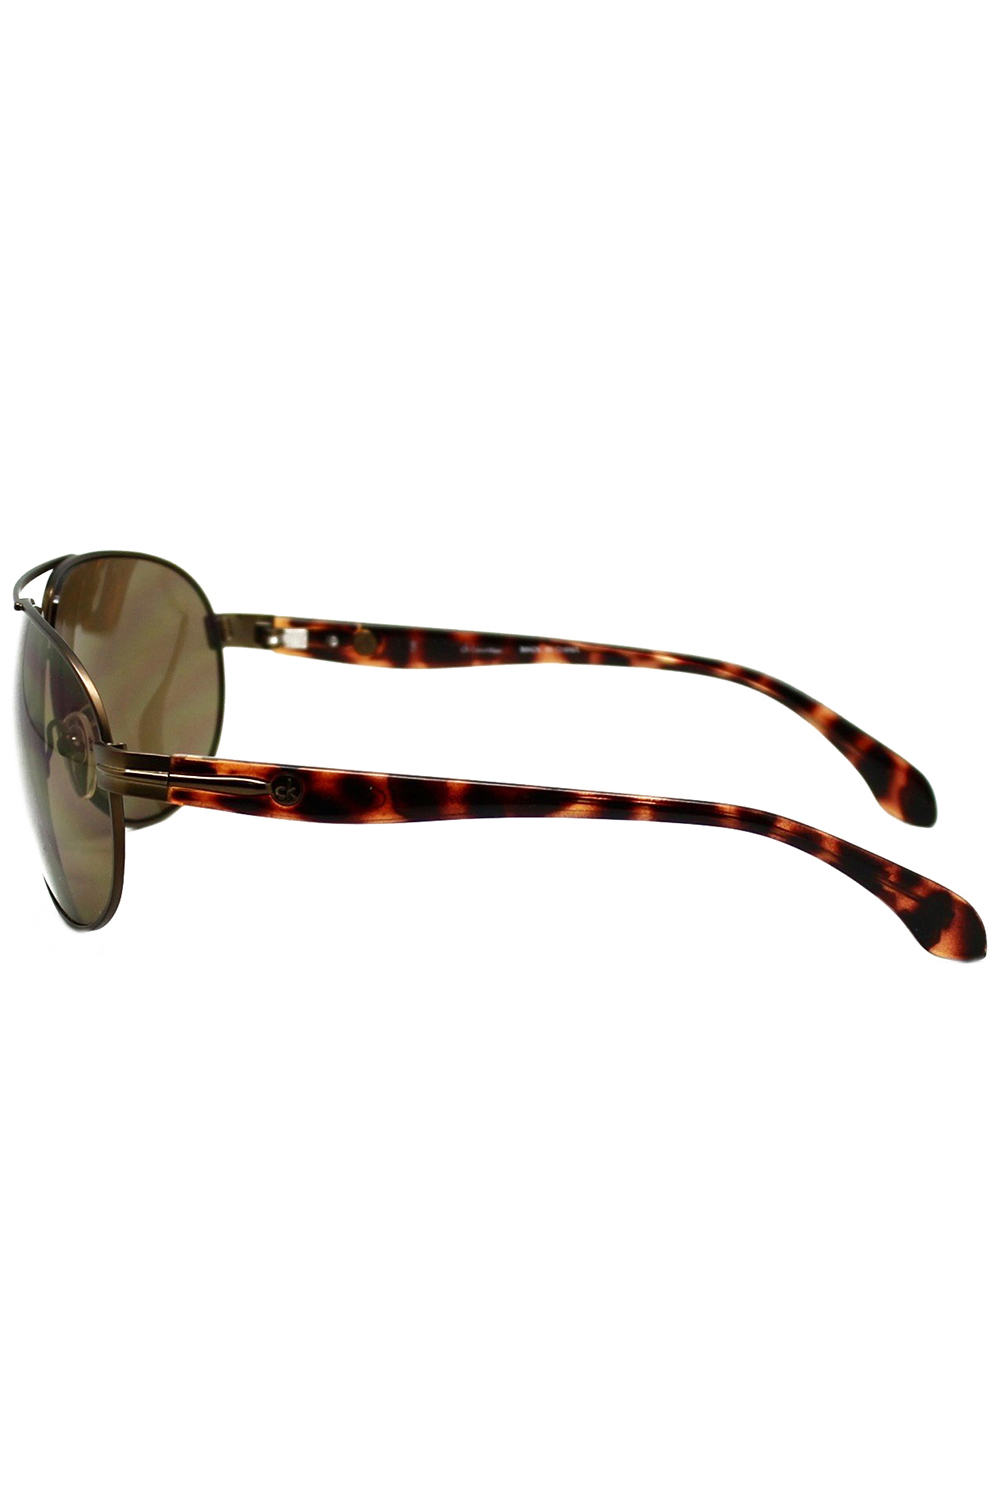Calvin Klein: (266, 766, 309, 808)
